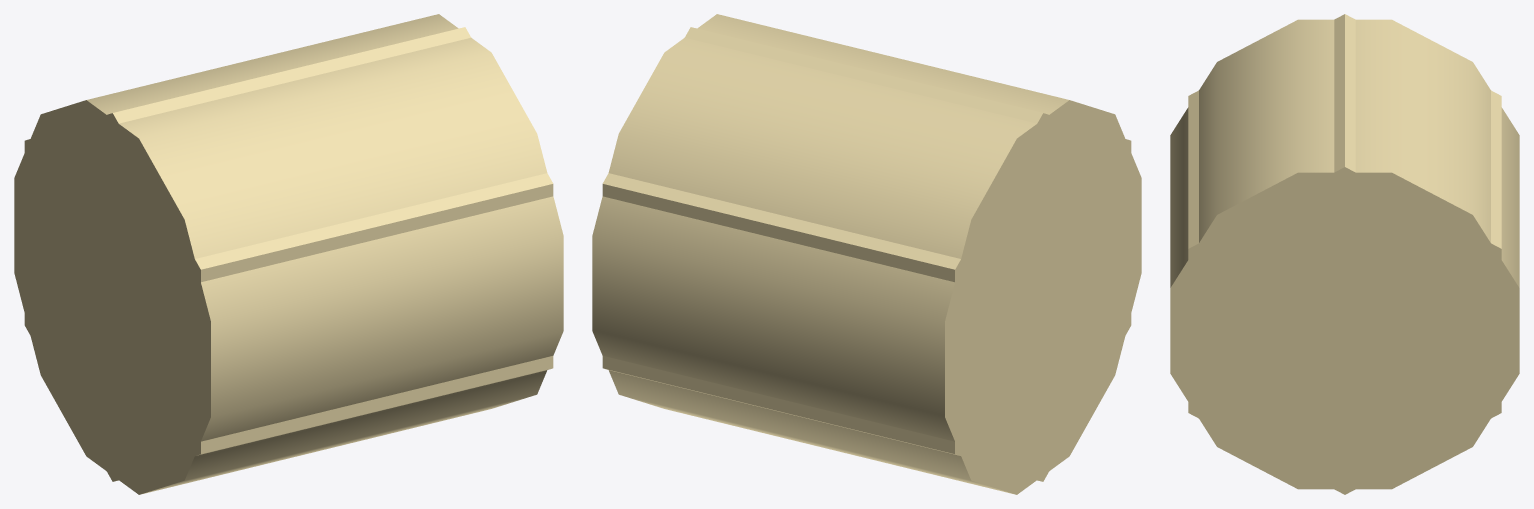
Rendered from HayBale_0.glb.
3 views of the same model, side by side, from view 1: azimuth 30°, elevation 25°; view 2: azimuth 150°, elevation 25°; view 3: azimuth 270°, elevation 25° (orthographic). The views are drawn at different scales.
Visible parts, largest first — view 1: HayBale_0; view 2: HayBale_0; view 3: HayBale_0.
Boxes of the visible parts, x1,y1,x2,y2 form: HayBale_0: (14, 14, 563, 494); HayBale_0: (592, 14, 1141, 494); HayBale_0: (1170, 14, 1519, 494).
Size of the model in its own units: 2.5 by 2.5 by 2.41.
